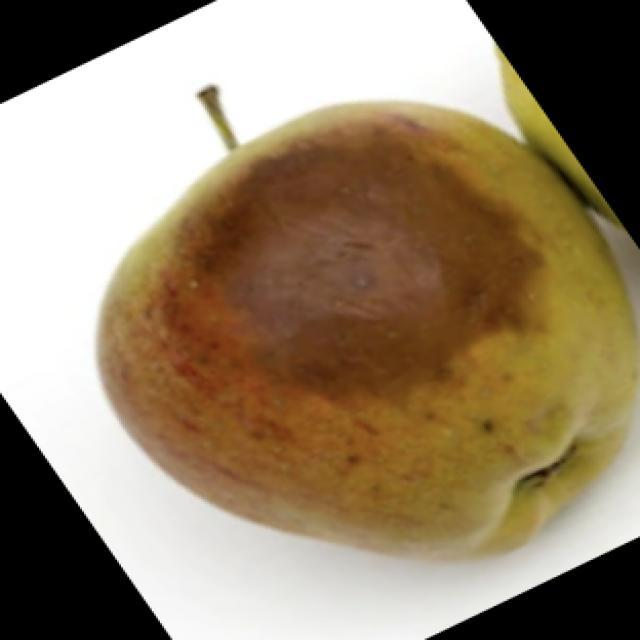Rotten: (102, 100, 633, 582)
